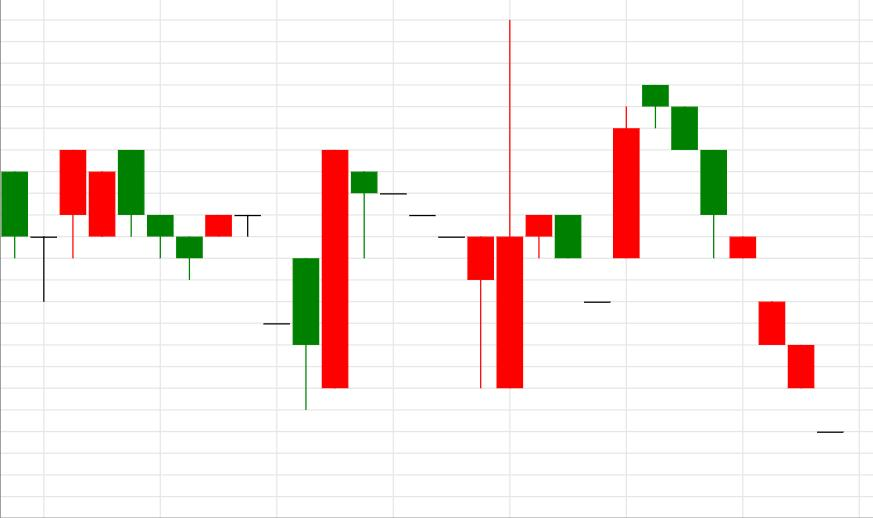hammer_rise: (351, 172, 495, 388)
